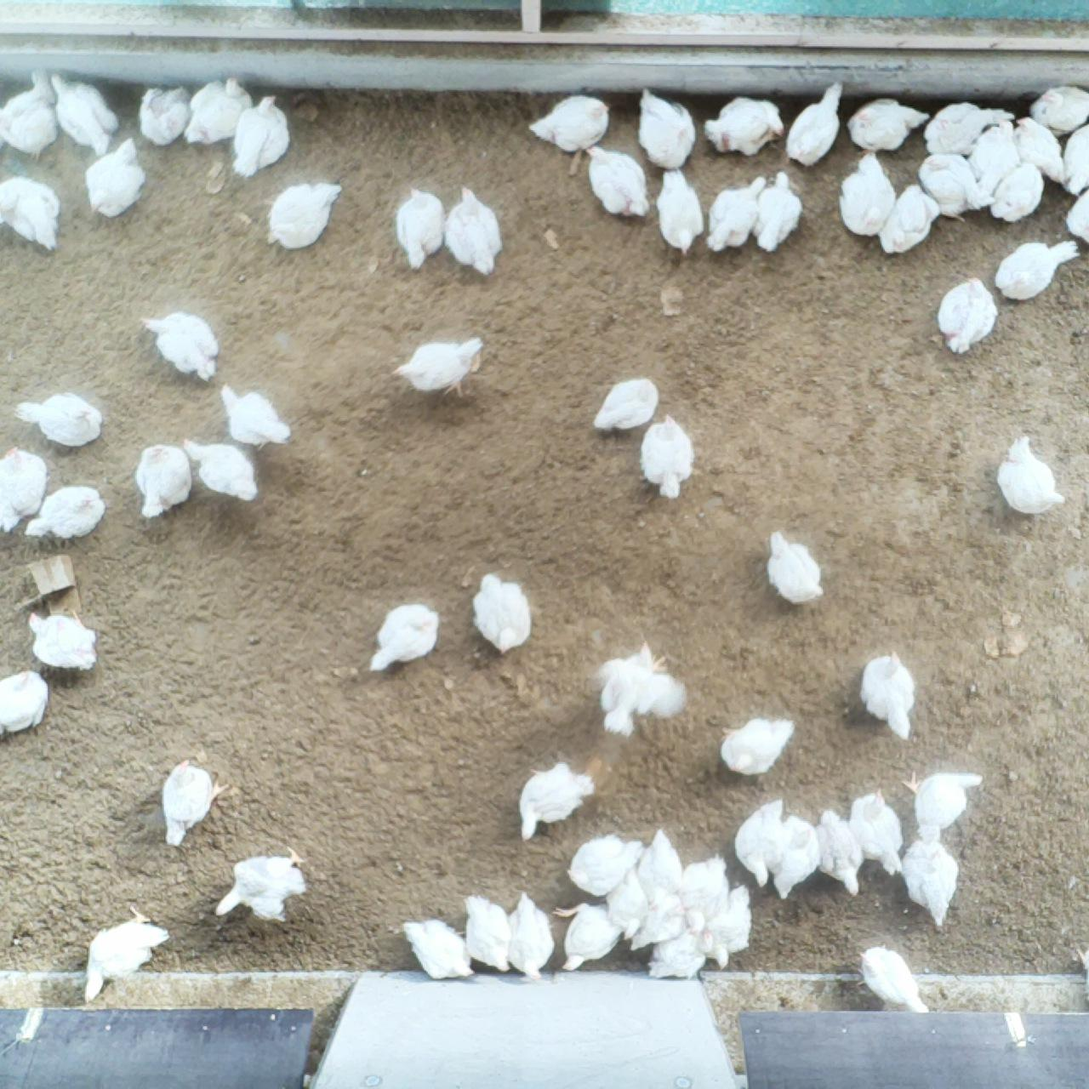chicken: (595, 636, 695, 741), (80, 903, 175, 1009), (211, 843, 310, 924), (513, 760, 601, 846), (389, 333, 489, 405), (900, 765, 987, 845), (158, 756, 231, 850), (992, 429, 1069, 518), (48, 68, 122, 159), (139, 310, 224, 385), (443, 181, 508, 279), (264, 178, 344, 254), (851, 940, 932, 1015), (915, 151, 996, 225), (900, 830, 961, 927), (82, 134, 149, 222), (835, 148, 899, 240), (469, 569, 535, 658), (550, 896, 624, 975), (181, 435, 263, 506), (858, 647, 918, 744), (180, 74, 255, 151), (367, 598, 441, 676), (634, 83, 698, 173), (229, 94, 294, 182), (992, 238, 1081, 302), (217, 379, 295, 452), (13, 389, 106, 449), (564, 830, 646, 898), (702, 171, 770, 253), (700, 93, 787, 157), (935, 273, 1001, 357), (718, 714, 800, 781), (637, 413, 698, 502), (848, 787, 907, 878), (0, 71, 59, 162), (527, 91, 612, 154), (844, 93, 931, 154), (25, 604, 103, 672), (733, 796, 787, 894), (22, 484, 108, 545), (765, 524, 828, 607), (586, 144, 653, 222), (924, 100, 1015, 157), (459, 890, 518, 977), (131, 440, 193, 522), (0, 174, 63, 254), (400, 917, 476, 983), (702, 882, 757, 973), (392, 182, 446, 274), (506, 891, 558, 984), (655, 165, 707, 258), (877, 182, 941, 257), (0, 444, 51, 537), (677, 853, 733, 937), (751, 169, 805, 254), (591, 375, 661, 434), (967, 118, 1019, 197), (1012, 115, 1069, 186), (604, 862, 652, 943), (988, 160, 1046, 227), (0, 669, 54, 740), (137, 80, 194, 147), (635, 826, 686, 900), (644, 929, 715, 982), (627, 894, 685, 953), (1026, 82, 1089, 132), (1062, 121, 1089, 198), (1060, 185, 1089, 246)
